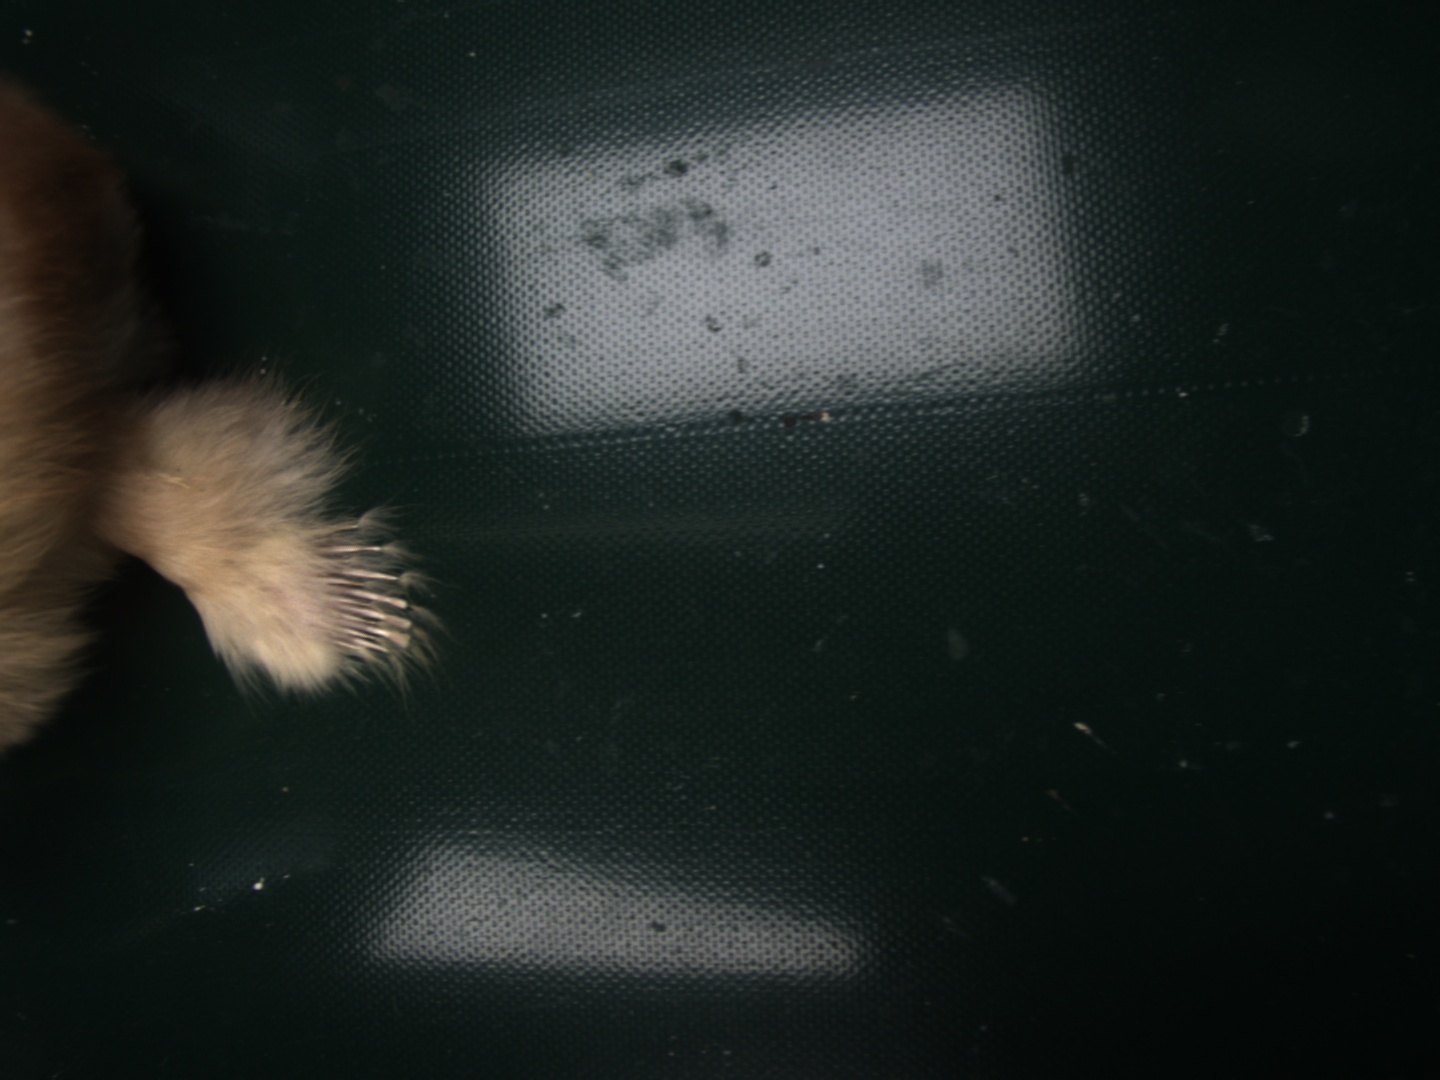female: (304, 518, 410, 663)
